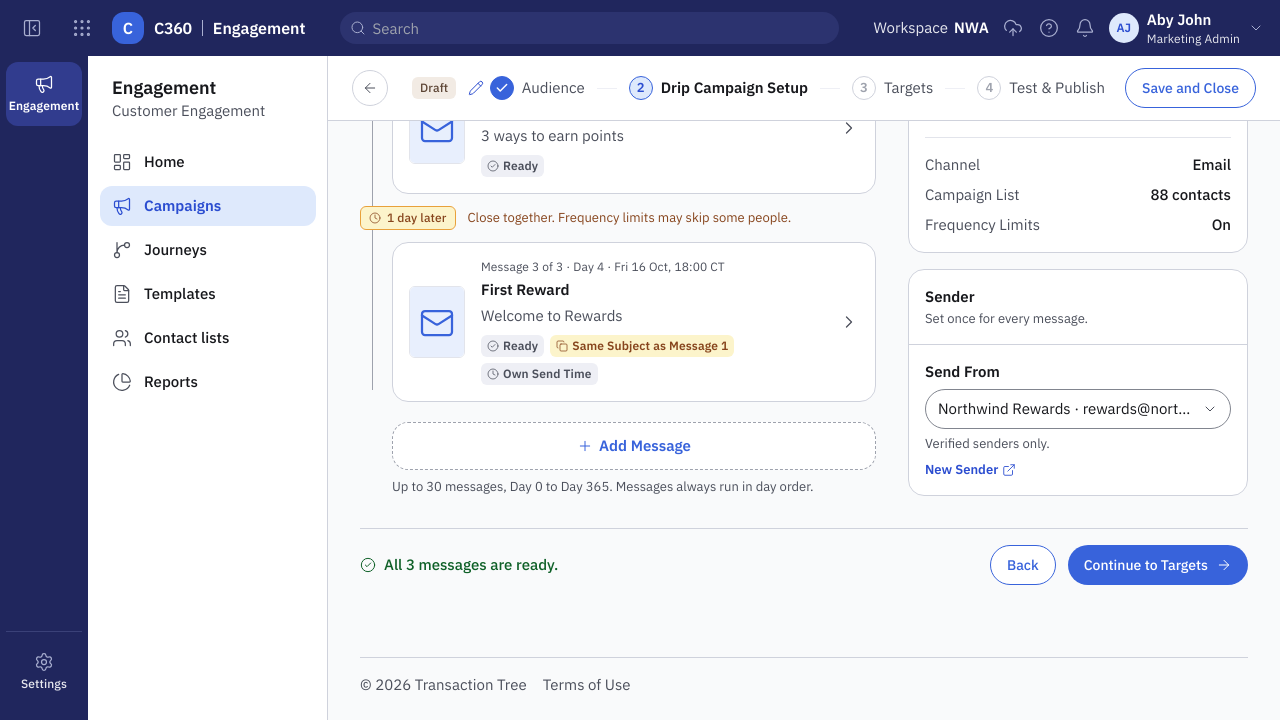
Test: Add Message: blank
(page scrolled)
Click the button "Add Message" at x=634, y=446, box [392, 422, 876, 470]
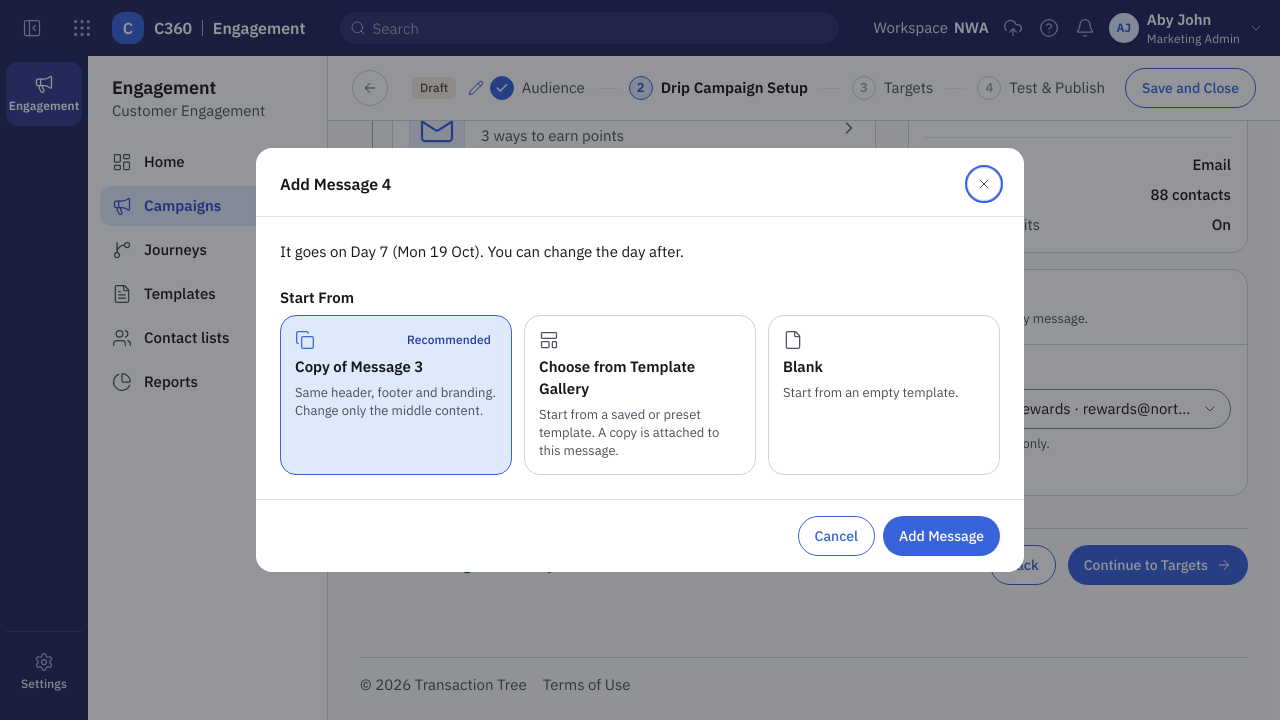
Click the radio button labelled "Blank" at x=884, y=395, box [768, 315, 1000, 475]
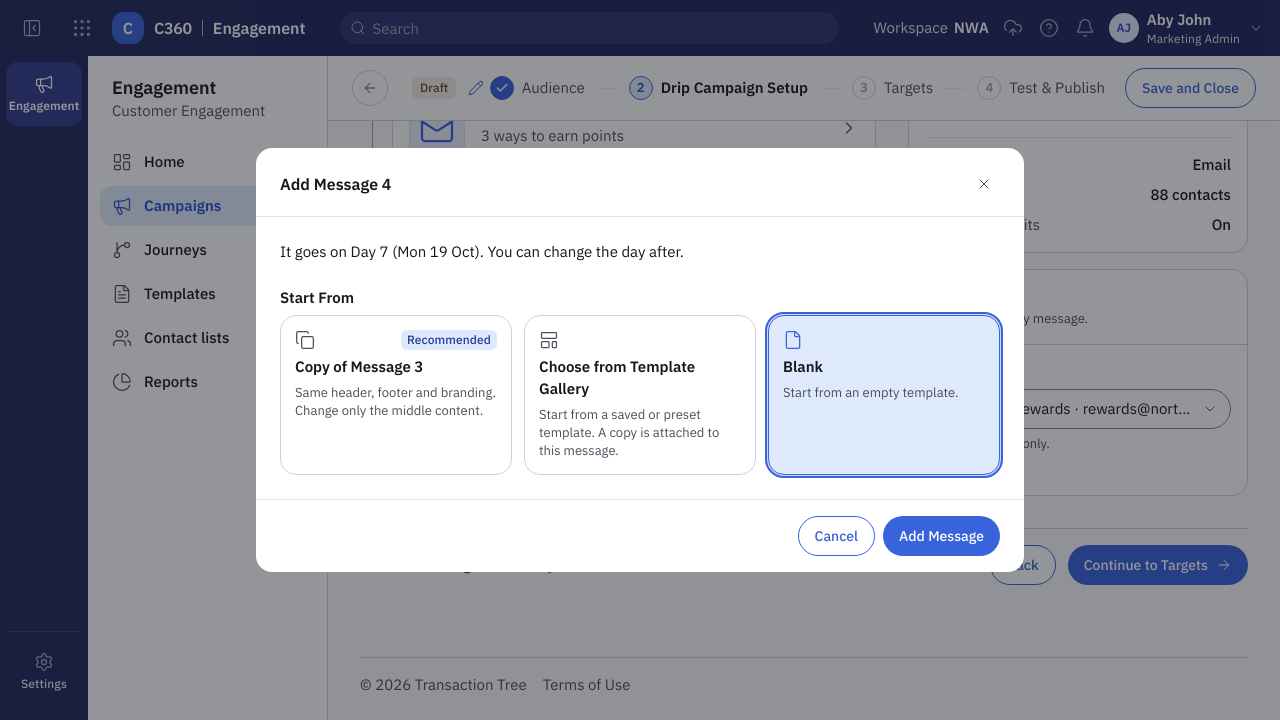
Click the button "Add Message" at x=942, y=536, box [883, 516, 1000, 556]
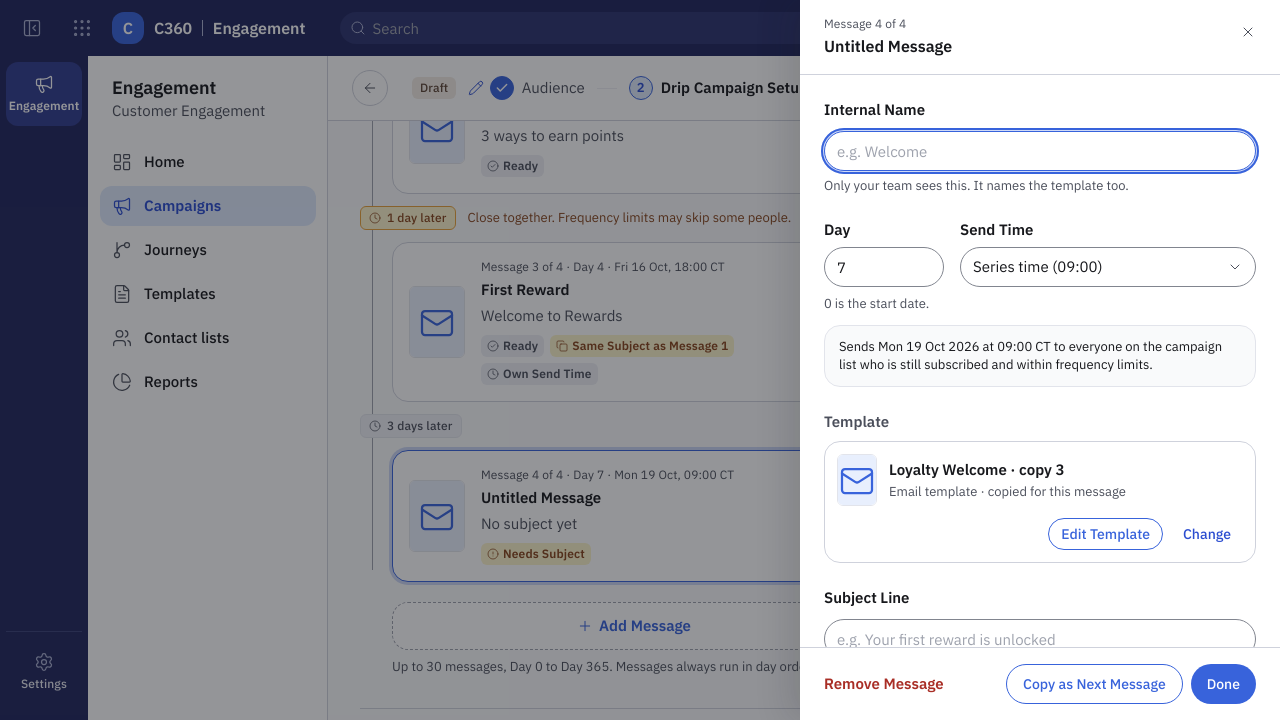
Check: the text "Message 4 of 4" is shown, box [824, 16, 906, 31]
